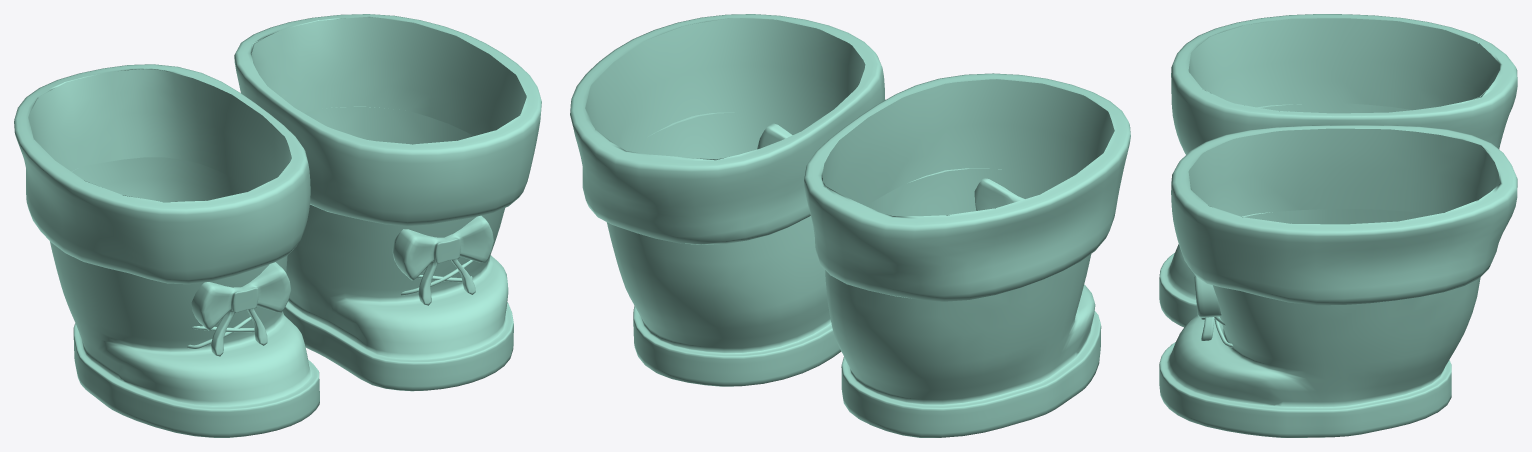
Rendered from Boots06_fluff (1).fbx.
The picture shows the model from 3 angles, left to right: view 1: azimuth 30°, elevation 25°; view 2: azimuth 150°, elevation 25°; view 3: azimuth 270°, elevation 25°; orthographic projection. The views are drawn at different scales.
Parts seen in each view (by area): view 1: Fluffyboots; view 2: Fluffyboots; view 3: Fluffyboots.
Boxes of the visible parts, bbox=[...] form: Fluffyboots: bbox=[14, 14, 541, 437]; Fluffyboots: bbox=[570, 14, 1130, 437]; Fluffyboots: bbox=[1159, 14, 1517, 437].
Size of the model in its own units: 111 by 53.48 by 76.32.
